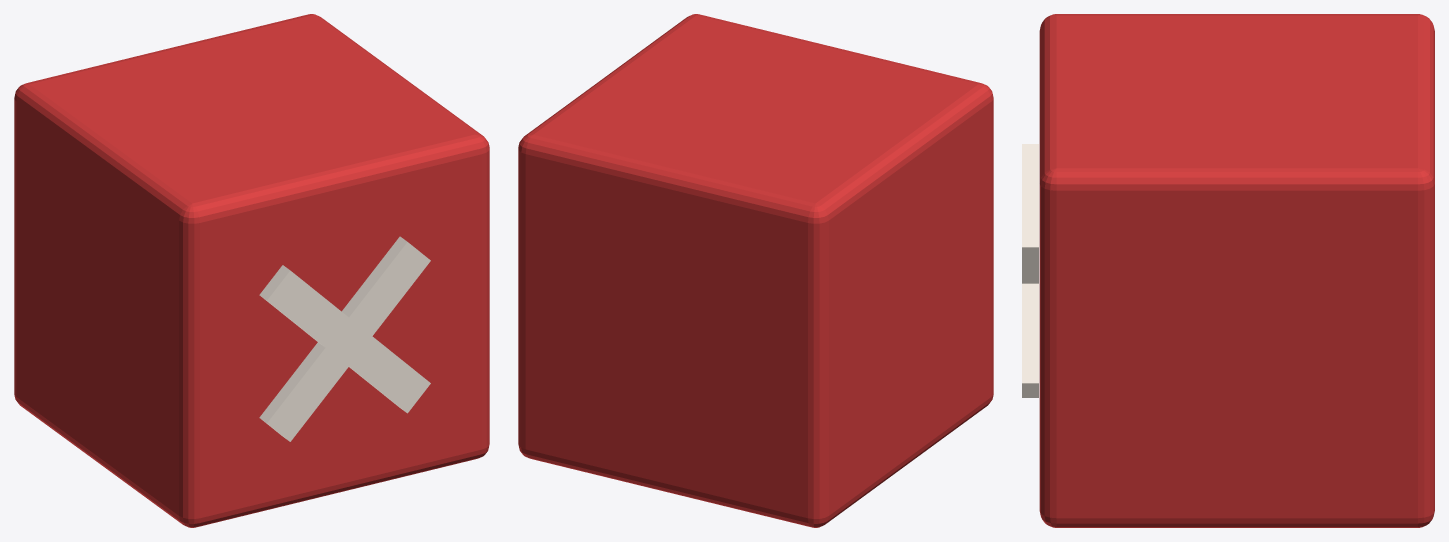
The model's file is Icons_C.FBX.
The picture shows the model from 3 angles, left to right: view 1: azimuth 30°, elevation 25°; view 2: azimuth 150°, elevation 25°; view 3: azimuth 270°, elevation 25°; orthographic projection. The views are drawn at different scales.
Parts seen in each view (by area): view 1: Icons_C; view 2: Icons_C; view 3: Icons_C.
Part boxes in pixels (left/top/right/bottom): Icons_C: left=14, top=14, right=489, bottom=527; Icons_C: left=518, top=14, right=993, bottom=527; Icons_C: left=1022, top=14, right=1434, bottom=527.
Bounding box in the file's own units: 46.56 × 46.56 × 48.62.
